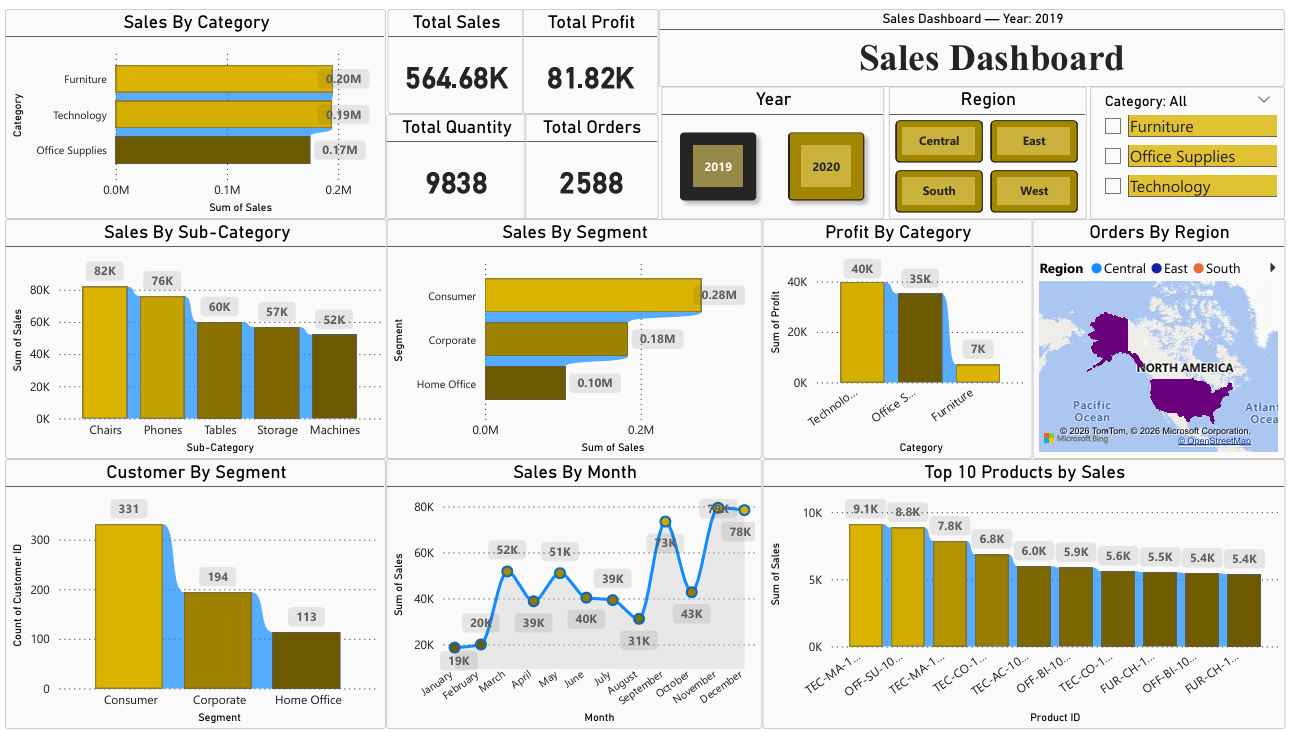

The page's visual inventory and layout, read from the dashboard file:
{"tool":"powerbi","page":{"name":"Executive Sales Dashboard","canvas":[1280,720],"ordinal":0},"visuals":[{"type":"card","title":"Total Sales","fields":{"Values":["Sum(SuperStore_Sales_Dataset.Sales)"]},"box":[382.5,0,136.2,105],"z":0},{"type":"card","title":"Total Profit","fields":{"Values":["Sum(SuperStore_Sales_Dataset.Profit)"]},"box":[517.5,0,136.2,105],"z":1000},{"type":"card","title":"Total Orders","fields":{"Values":["CountNonNull(SuperStore_Sales_Dataset.Order ID)"]},"box":[518.8,105,135,105],"z":2000},{"type":"card","title":"Total Quantity","fields":{"Values":["Sum(SuperStore_Sales_Dataset.Quantity)"]},"box":[381.2,105,140,105],"z":3000},{"type":"barChart","title":"Sales By Category","fields":{"Y":["Sum(SuperStore_Sales_Dataset.Sales)"],"Category":["SuperStore_Sales_Dataset.Category"]},"box":[0,0,381.4,210],"z":4000},{"type":"lineChart","title":"Sales By Month","fields":{"Y":["Sum(SuperStore_Sales_Dataset.Sales)"],"Category":["SuperStore_Sales_Dataset.Order Date.Variation.Date Hierarchy.Month"]},"box":[381.4,450,375.7,270],"z":5000},{"type":"columnChart","title":"Top 10 Products by Sales","fields":{"Category":["SuperStore_Sales_Dataset.Product ID"],"Y":["Sum(SuperStore_Sales_Dataset.Sales)"]},"box":[757.1,450,522.9,270],"z":6000},{"type":"columnChart","title":"Sales By Sub-Category","fields":{"Category":["SuperStore_Sales_Dataset.Sub-Category"],"Y":["Sum(SuperStore_Sales_Dataset.Sales)"]},"box":[0,210,382.9,240],"z":7000},{"type":"columnChart","title":"Profit By Category","fields":{"Category":["SuperStore_Sales_Dataset.Category"],"Y":["Sum(SuperStore_Sales_Dataset.Profit)"]},"box":[757.5,210,270,240],"z":8000},{"type":"columnChart","title":"Customer By Segment","fields":{"Category":["SuperStore_Sales_Dataset.Segment"],"Y":["Count(SuperStore_Sales_Dataset.Customer ID)"]},"box":[0,450,381.4,270],"z":9000},{"type":"barChart","title":"Sales By Segment","fields":{"Y":["Sum(SuperStore_Sales_Dataset.Sales)"],"Category":["SuperStore_Sales_Dataset.Segment"]},"box":[381.4,210,375.7,240],"z":10000},{"type":"filledMap","title":"Orders By Region","fields":{"Category":["SuperStore_Sales_Dataset.Order ID"],"Series":["SuperStore_Sales_Dataset.Region"]},"box":[1027.5,210,252.5,240],"z":11000},{"type":"advancedSlicerVisual","fields":{"Values":["SuperStore_Sales_Dataset.Order Date.Variation.Date Hierarchy.Year"]},"box":[656.2,77.5,222.5,132.5],"z":12000},{"type":"advancedSlicerVisual","fields":{"Values":["SuperStore_Sales_Dataset.Region"]},"box":[883.8,77.5,197.5,132.5],"z":13000},{"type":"slicer","fields":{"Values":["SuperStore_Sales_Dataset.Category"]},"box":[1085,77.5,195,132.5],"z":14000},{"type":"textbox","box":[653.8,0,626.2,77.5],"z":15000}]}

Visuals, with their boxes in screenshot pixels (x1, y1, x2, y2), scaled from the page's 1280x720 canvas onto the 1290x732 screenshot:
"Total Sales" card: <bbox>385, 0, 523, 107</bbox>
"Total Profit" card: <bbox>522, 0, 659, 107</bbox>
"Total Orders" card: <bbox>523, 107, 659, 214</bbox>
"Total Quantity" card: <bbox>384, 107, 525, 214</bbox>
"Sales By Category" barChart: <bbox>0, 0, 384, 214</bbox>
"Sales By Month" lineChart: <bbox>384, 458, 763, 731</bbox>
"Top 10 Products by Sales" columnChart: <bbox>763, 458, 1289, 731</bbox>
"Sales By Sub-Category" columnChart: <bbox>0, 214, 386, 458</bbox>
"Profit By Category" columnChart: <bbox>763, 214, 1036, 458</bbox>
"Customer By Segment" columnChart: <bbox>0, 458, 384, 731</bbox>
"Sales By Segment" barChart: <bbox>384, 214, 763, 458</bbox>
"Orders By Region" filledMap: <bbox>1036, 214, 1289, 458</bbox>
advancedSlicerVisual - SuperStore_Sales_Dataset.Order Date.Variation.Date Hierarchy.Year: <bbox>661, 79, 886, 214</bbox>
advancedSlicerVisual - SuperStore_Sales_Dataset.Region: <bbox>891, 79, 1090, 214</bbox>
slicer - SuperStore_Sales_Dataset.Category: <bbox>1093, 79, 1289, 214</bbox>
textbox: <bbox>659, 0, 1289, 79</bbox>
